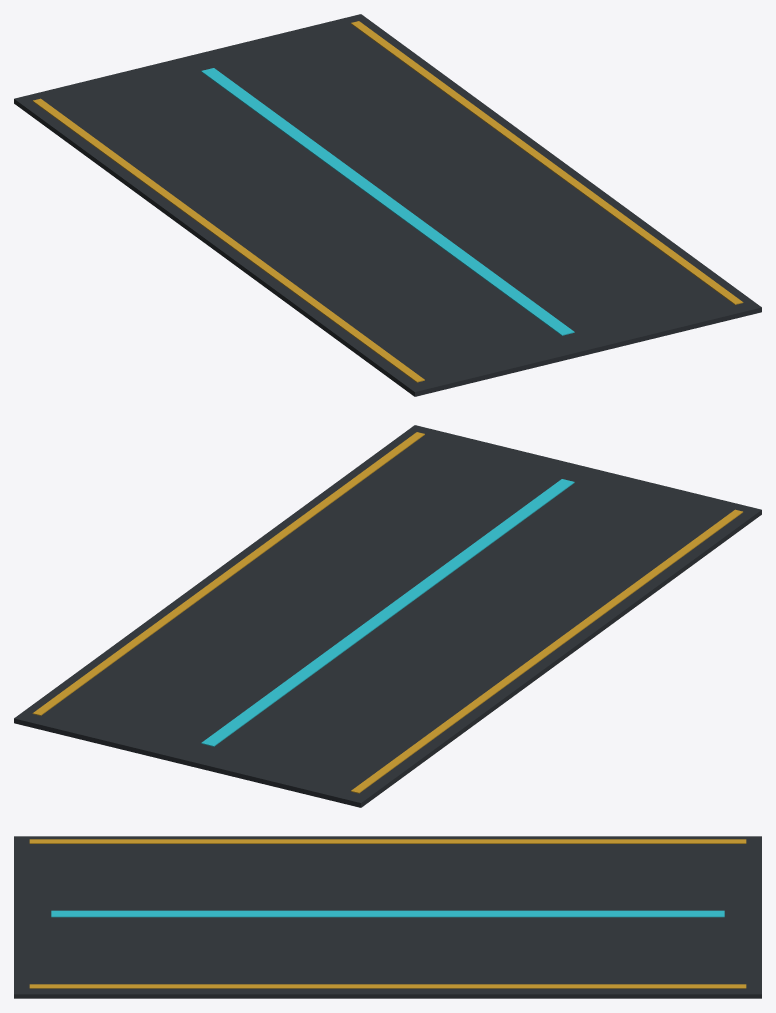
The model's file is floor.narrow_hall_6x12.glb.
The picture shows the model from 3 angles, top to bottom: view 1: azimuth 30°, elevation 25°; view 2: azimuth 150°, elevation 25°; view 3: azimuth 270°, elevation 25°; orthographic projection. The views are drawn at different scales.
Parts seen in each view (by area): view 1: floor_slab, center_lane, edge_warn_r, edge_warn_l; view 2: floor_slab, center_lane, edge_warn_r, edge_warn_l; view 3: floor_slab, center_lane, edge_warn_l, edge_warn_r.
Part boxes in pixels (x1,y1,x2,y2): floor_slab: (14,14,761,396); center_lane: (201,68,574,335); edge_warn_r: (351,21,743,304); edge_warn_l: (33,98,424,382); floor_slab: (14,425,761,807); center_lane: (201,479,574,746); edge_warn_r: (32,432,424,715); edge_warn_l: (351,509,742,793); floor_slab: (14,836,761,998); center_lane: (51,910,724,917); edge_warn_l: (29,839,746,843); edge_warn_r: (29,984,746,988).
Size of the model in its own units: 6 by 0.108 by 12.
